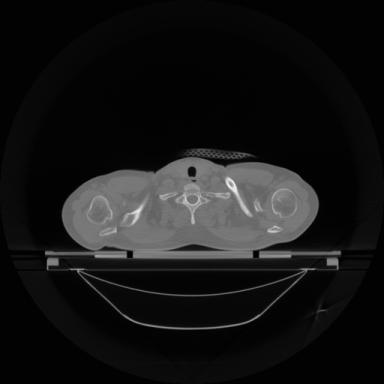body: (62, 157, 318, 250)
cord: (176, 183, 209, 224)
